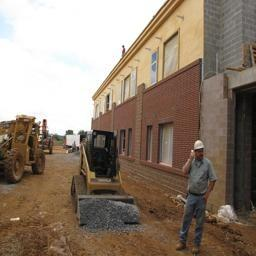hat: (189, 138, 212, 165)
no vest: (184, 156, 217, 206)
